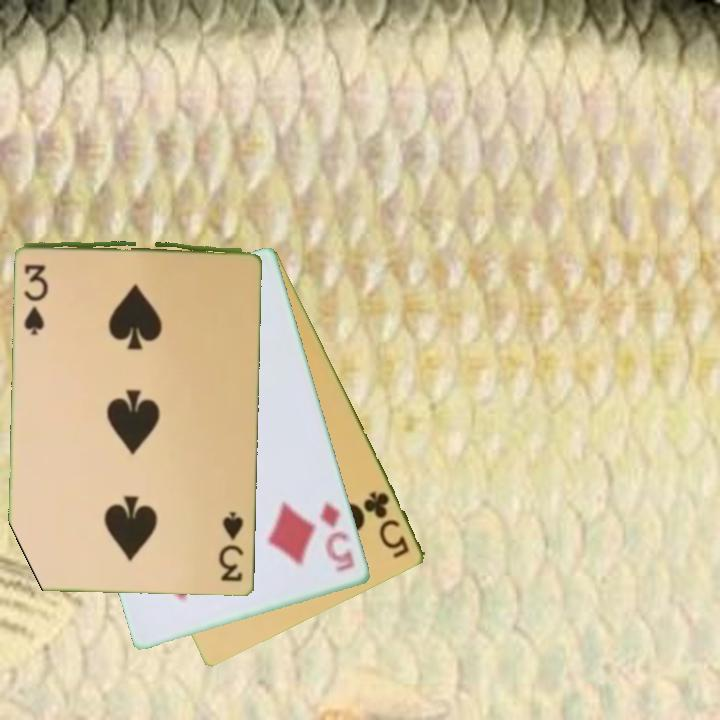3s: (217, 508, 247, 585), (21, 261, 51, 334)
5c: (360, 487, 413, 562)
5d: (317, 498, 358, 575)
